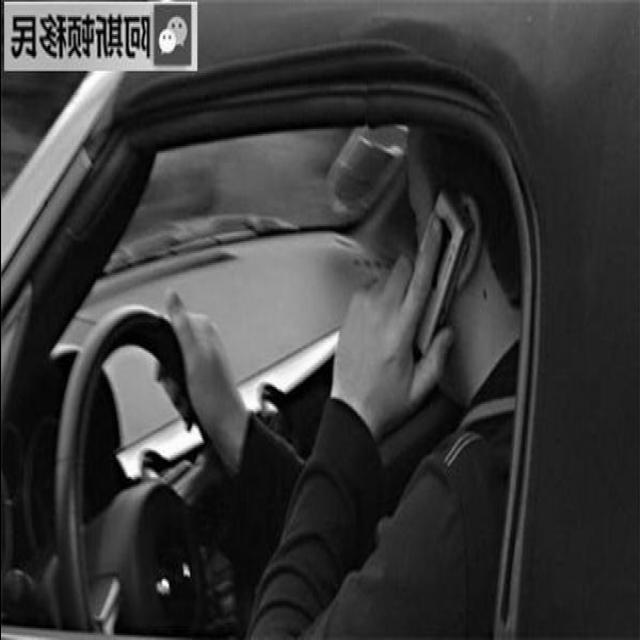phone: (327, 170, 478, 448)
